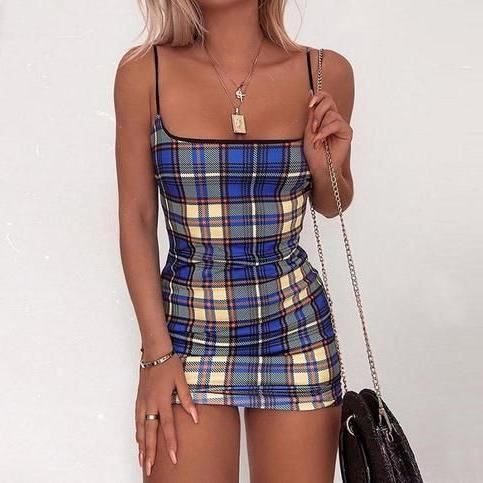dress: (140, 43, 345, 412)
